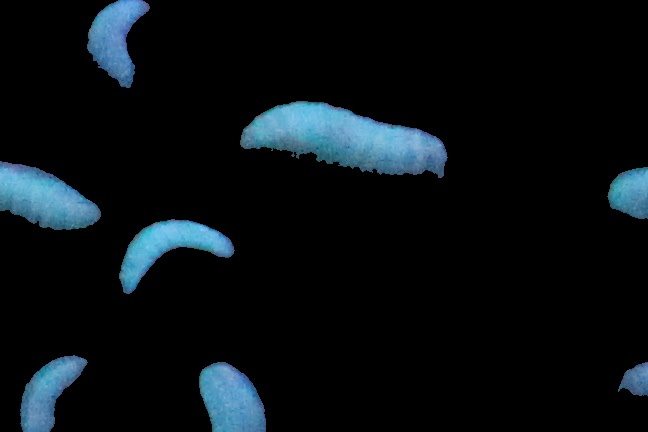larvae: (229, 90, 447, 196), (1, 145, 108, 235), (118, 221, 241, 298), (83, 1, 164, 109), (16, 353, 92, 432), (195, 362, 274, 432)
